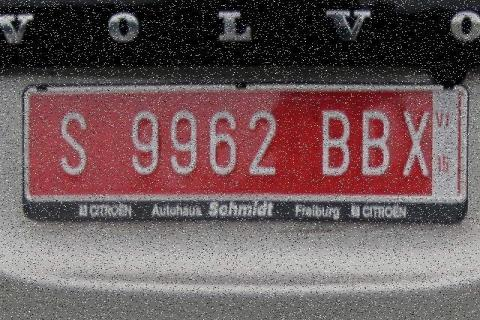LicensePlate: (14, 63, 474, 243)
